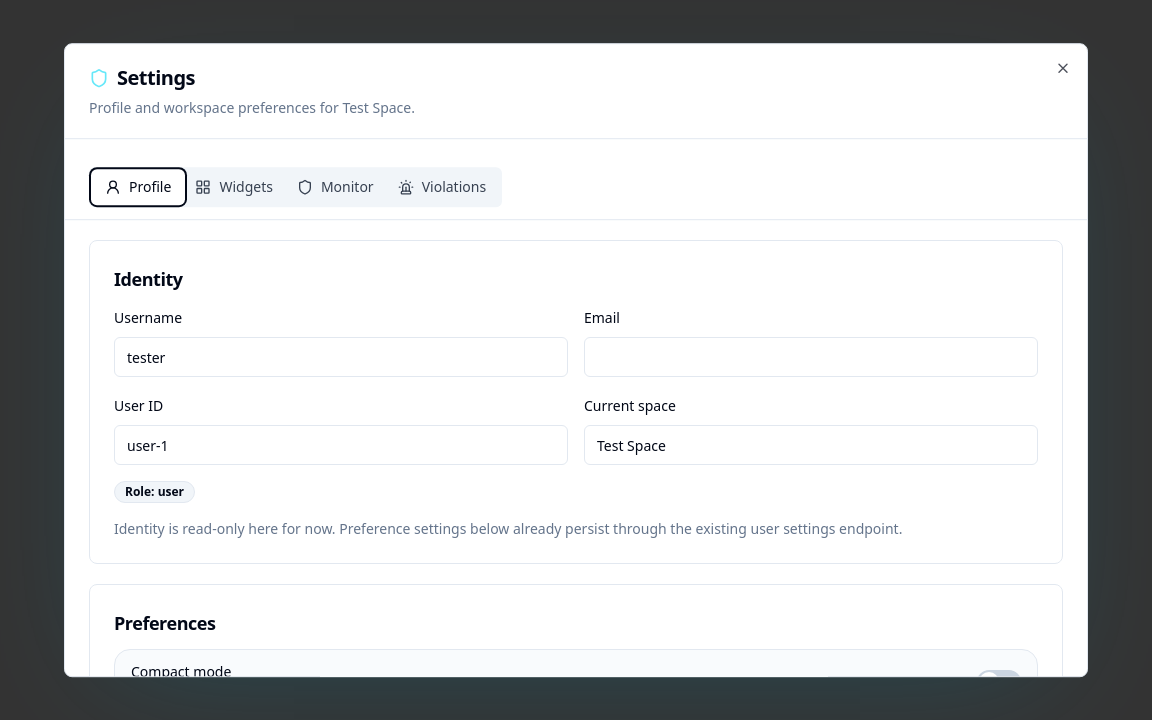
Test: Settings after credential retirement › never restores PAT or client-secret settings through the old feature flag
expect the field showing "tester" is shown: met, box [114,337,568,377]
Click the tab "Monitor": point(335, 187) [285,171,386,203]
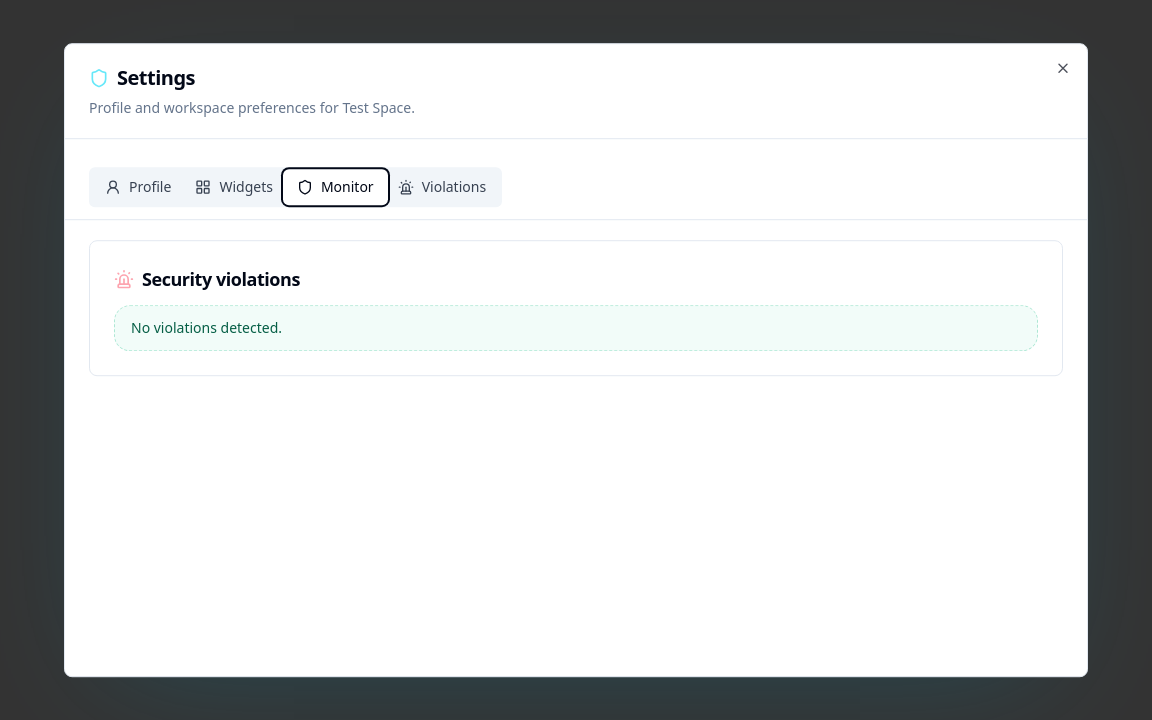
expect the heading "Security violations" is shown: met, box [114,267,300,291]
